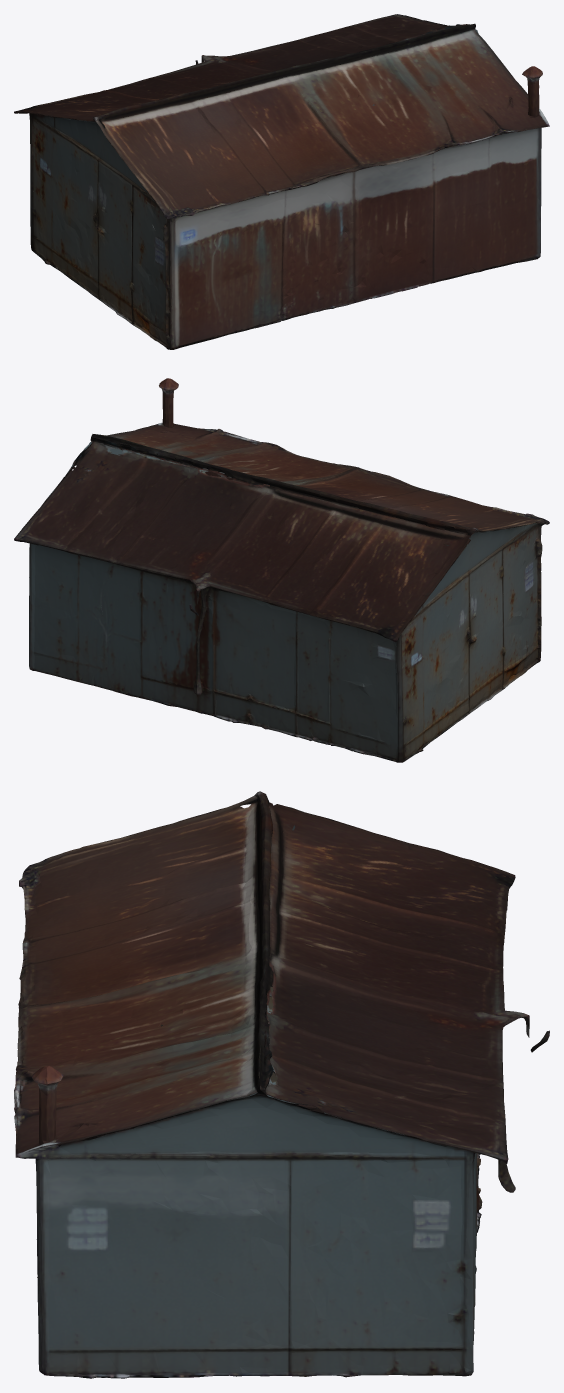
Rendered from Garaj_1.fbx.
The picture shows the model from 3 angles, top to bottom: view 1: azimuth 30°, elevation 25°; view 2: azimuth 150°, elevation 25°; view 3: azimuth 270°, elevation 25°; orthographic projection. The views are drawn at different scales.
Visible parts, largest first — view 1: world; view 2: world; view 3: world.
Part boxes in pixels (x1,y1,x2,y2): world: (14, 14, 549, 349); world: (14, 378, 549, 762); world: (14, 791, 549, 1378).
Size of the model in its own units: 100 by 48.48 by 76.29.
